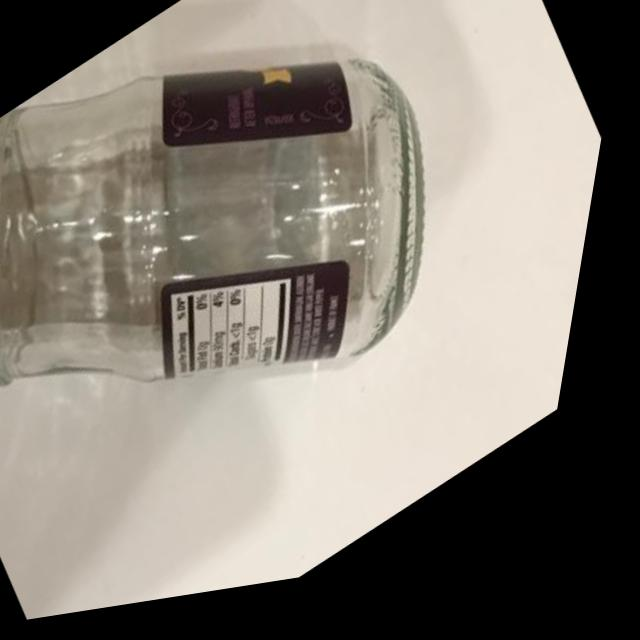glass: (0, 0, 565, 627)
